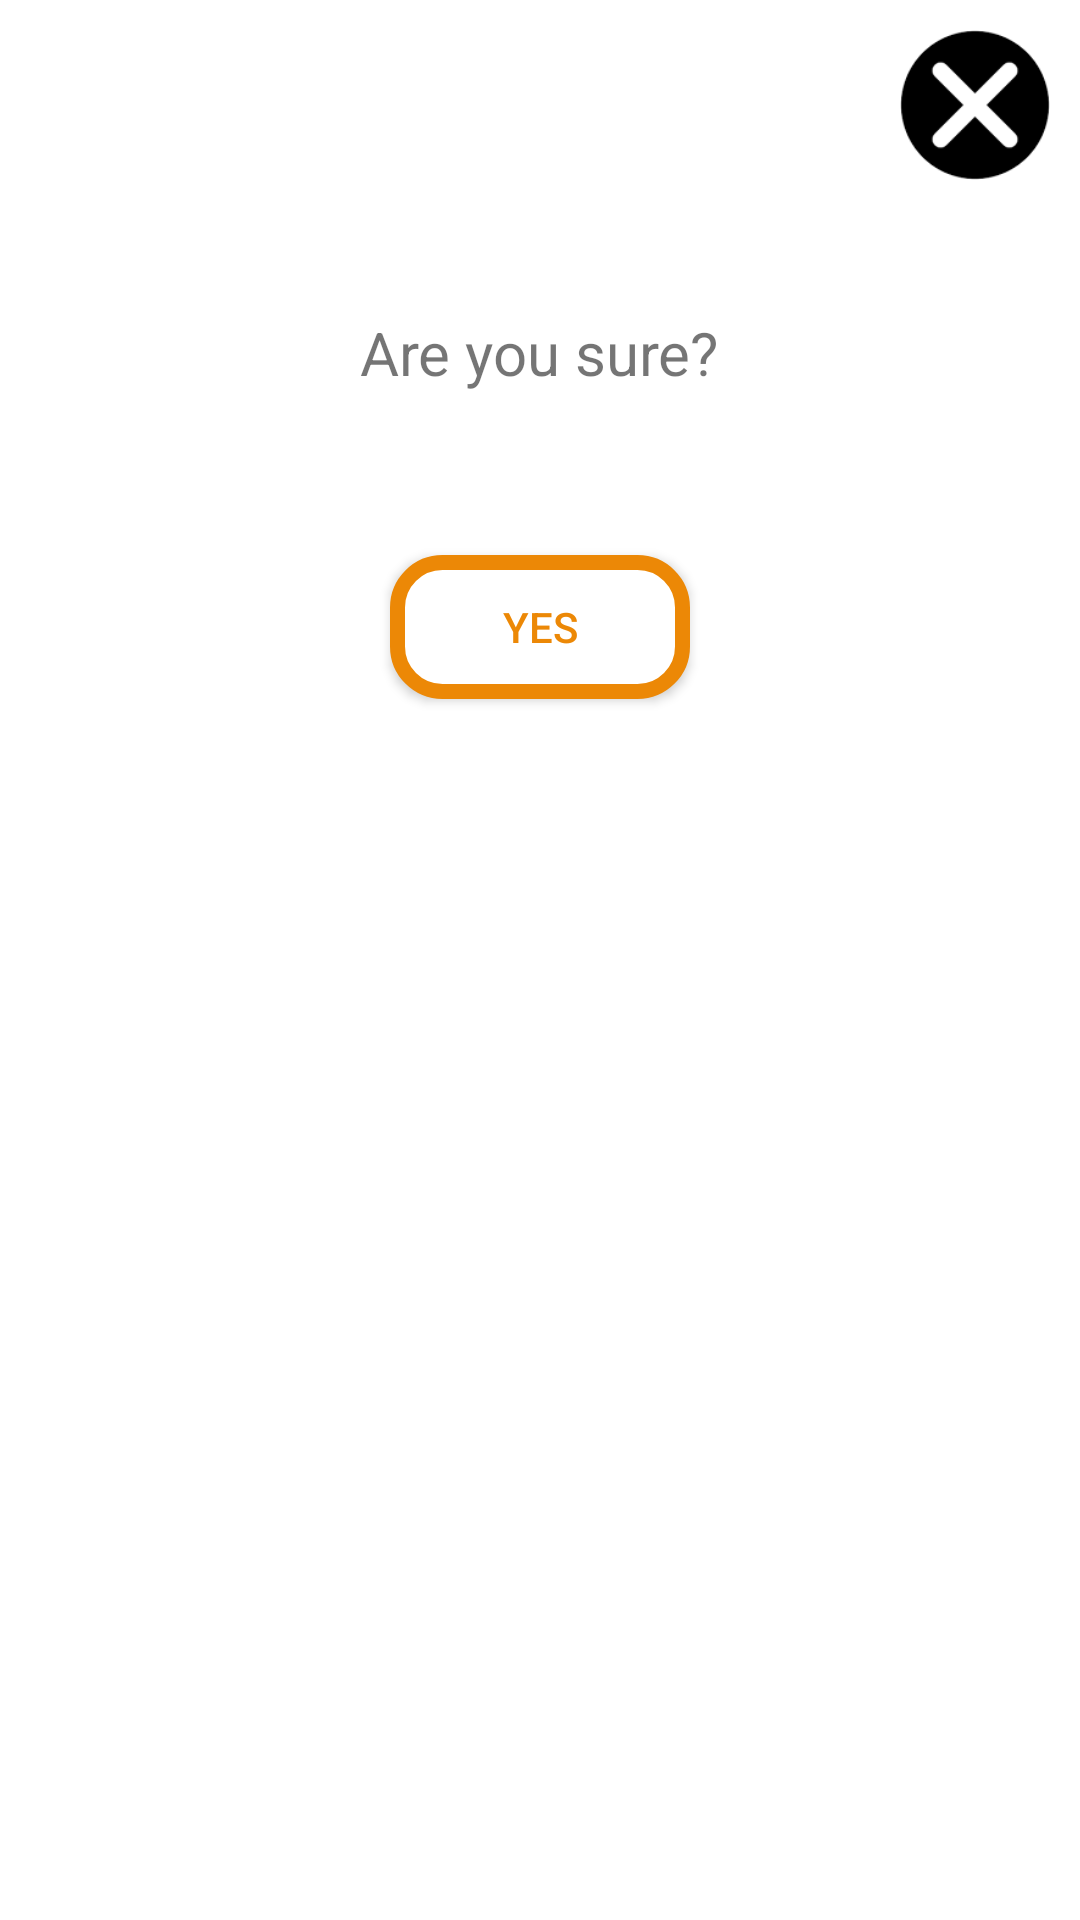

Named icons in this screenshot (1080*1920) and their centers, point (x, y):
cancel: point (975, 105)
